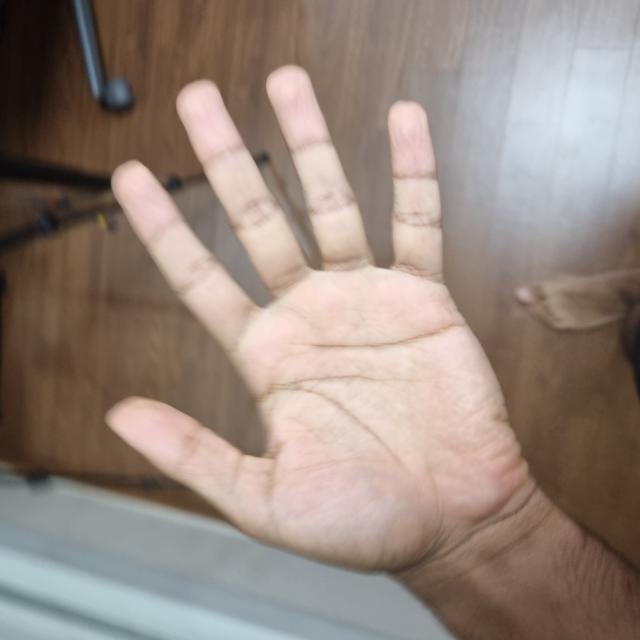Paper: (69, 108, 568, 524)
